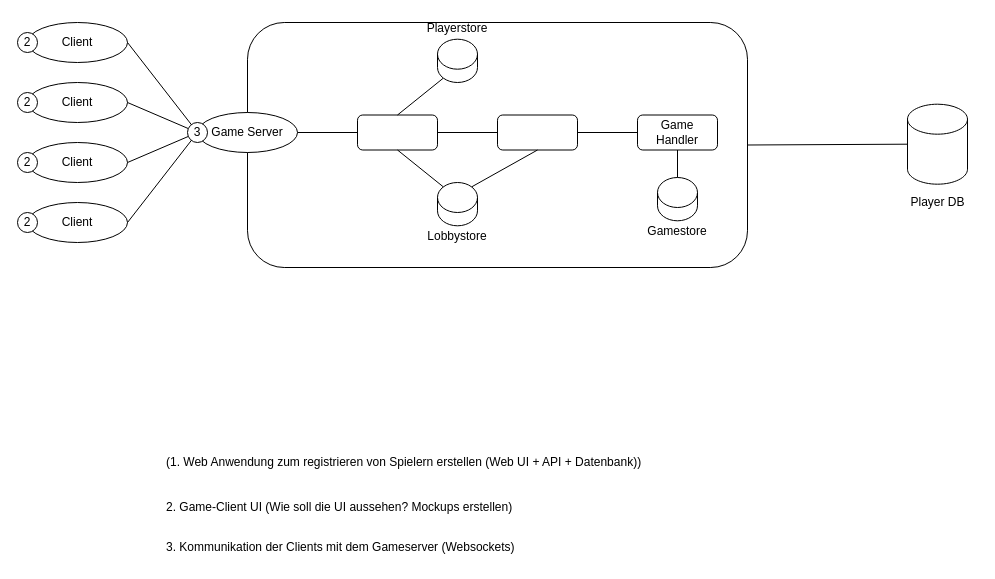
The diagram is 995 pixels wide and 579 high, and some of its shapes have lost their labels. The shapes that lost their labels are listed below. From the top down, each one's centre as x and y in pixels, then its label:
At point 397,132: "Request Handler".
At point 537,132: "Lobby Handler".
